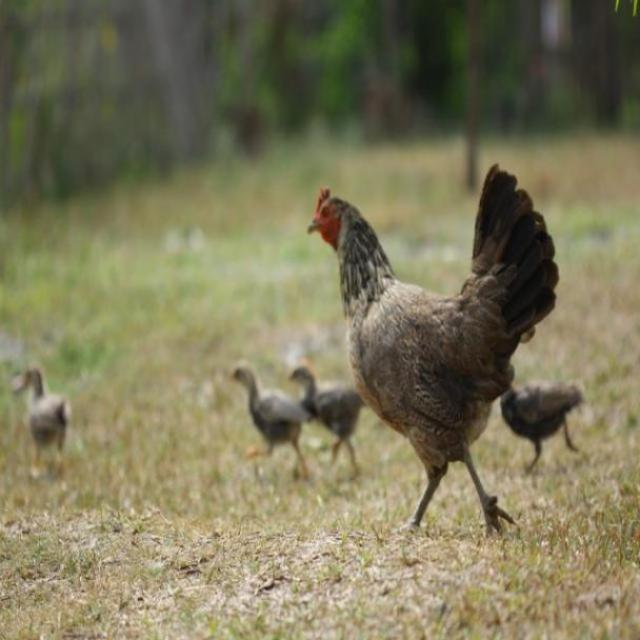Chicken: (297, 174, 580, 548), (229, 362, 310, 485), (288, 362, 367, 474), (500, 380, 586, 473), (25, 367, 69, 475)
